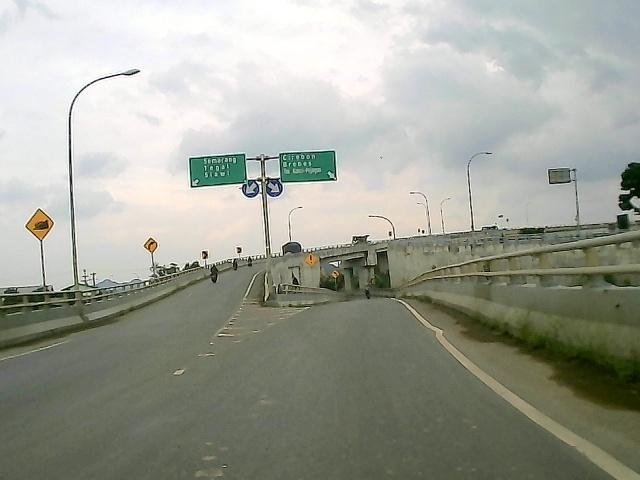Hati-hati: (303, 251, 319, 267)
Jalanan menanjak: (23, 206, 55, 241)
Tikungan ke kanan: (141, 236, 161, 254)
